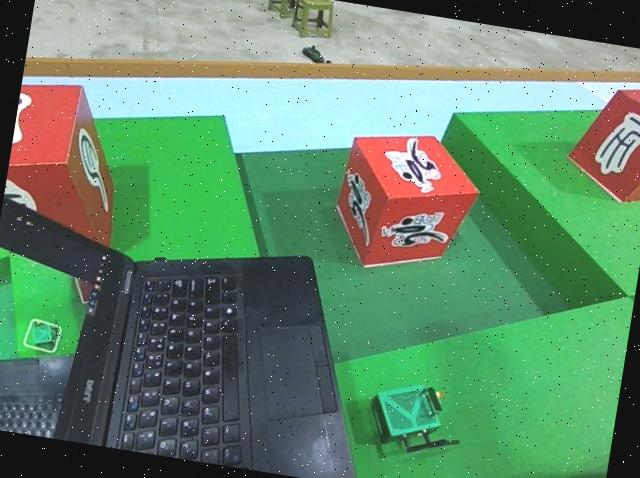R1: (326, 123, 486, 285)
R2 Fake: (0, 76, 129, 279), (559, 74, 640, 208)
